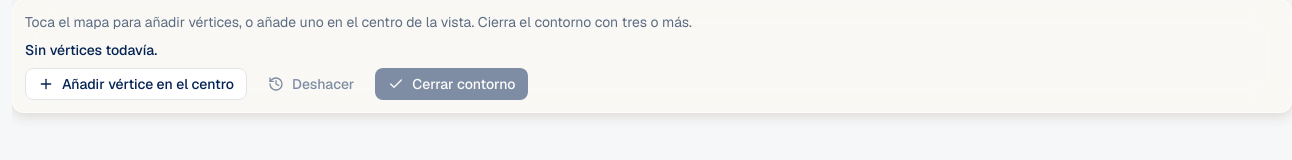
HerramientaContorno (AV-428) › añade un vértice en el centro con el teclado y quita las capas al desmontarse
Click the button "Añadir vértice en el centro".
click(136, 84)  # box 25,68 -> 247,100
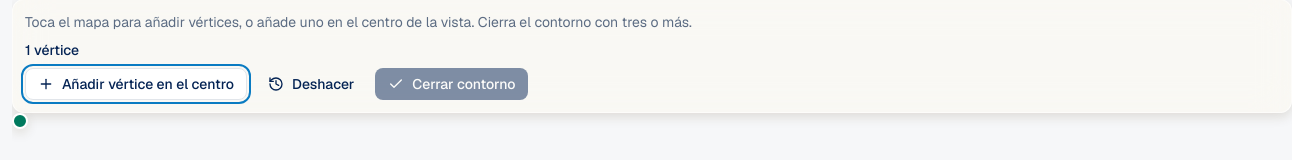
Check: the button named "Vértice 1 de 1" is shown, box 12,113 -> 28,129
